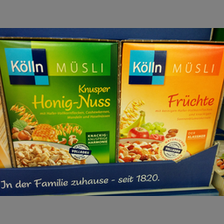cereal: (1, 40, 119, 167), (120, 42, 224, 163)
